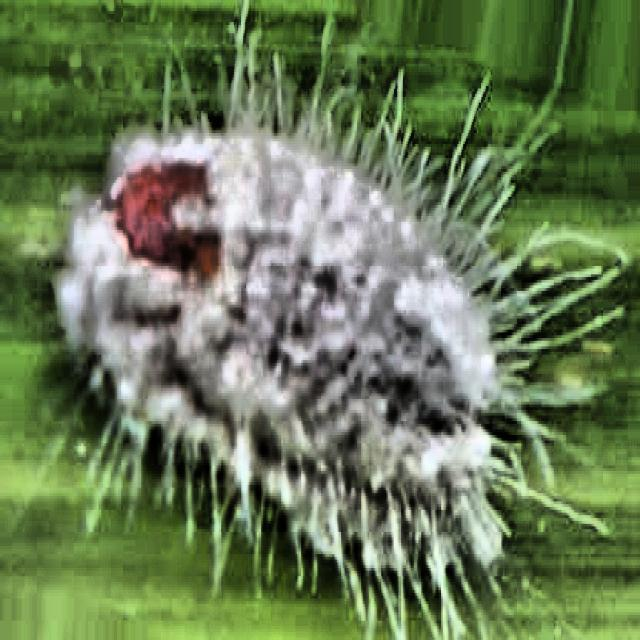Mealy-bug: (21, 16, 566, 636)
